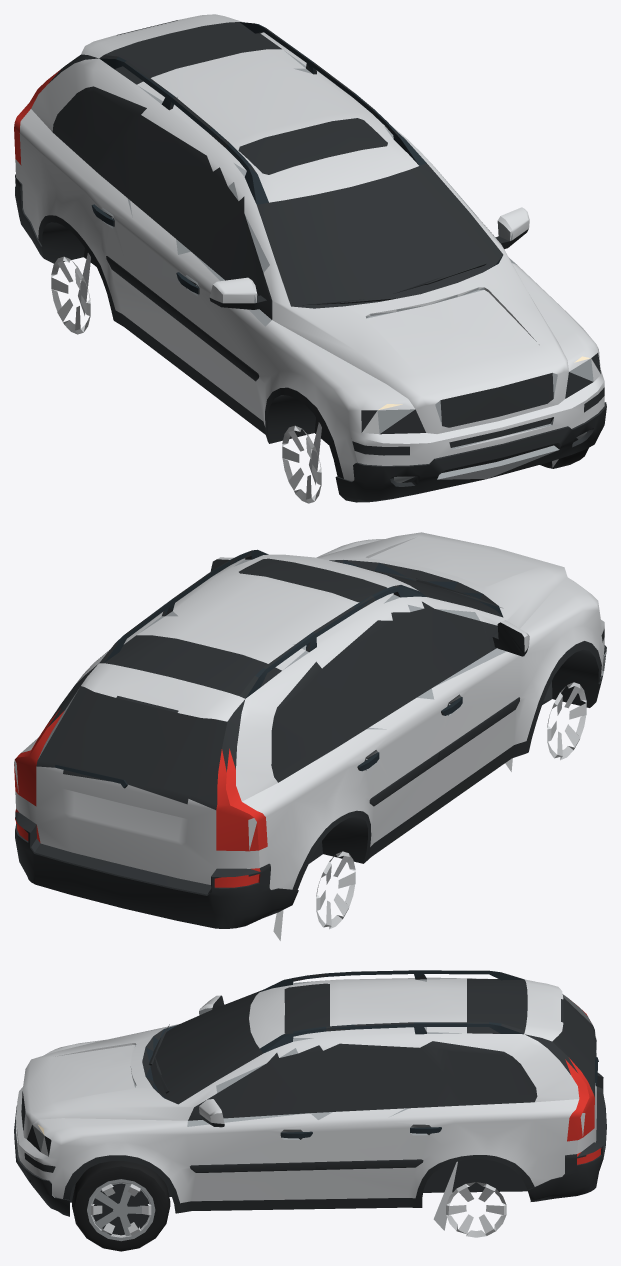
The model's file is suv-classic.glb.
The picture shows the model from 3 angles, top to bottom: view 1: azimuth 30°, elevation 25°; view 2: azimuth 150°, elevation 25°; view 3: azimuth 270°, elevation 25°; orthographic projection. The views are drawn at different scales.
Visible parts, largest first — view 1: Car body, Car trim, Car wheel discs, Car glazing; view 2: Car body, Car trim, Car tail lamps, Car glazing, Car wheel discs; view 3: Car body, Car trim, Wheel tyre, Car glazing, Wheel rim, Car wheel discs, Car tail lamps, Wheel well.
Boxes of the visible parts, x1=… form: Car body: x1=15, y1=14, x2=604, y2=503; Car trim: x1=15, y1=20, x2=606, y2=502; Car wheel discs: x1=101, y1=50, x2=593, y2=482; Car glazing: x1=91, y1=22, x2=502, y2=293; Car body: x1=14, y1=532, x2=604, y2=940; Car trim: x1=15, y1=550, x2=606, y2=928; Car tail lamps: x1=14, y1=708, x2=267, y2=887; Car glazing: x1=55, y1=549, x2=502, y2=788; Car wheel discs: x1=38, y1=559, x2=605, y2=770; Car body: x1=16, y1=977, x2=596, y2=1237; Car trim: x1=14, y1=970, x2=606, y2=1216; Wheel tyre: x1=72, y1=1161, x2=170, y2=1251; Car glazing: x1=145, y1=970, x2=598, y2=1138; Wheel rim: x1=87, y1=1179, x2=155, y2=1241; Car wheel discs: x1=23, y1=978, x2=592, y2=1197; Car tail lamps: x1=565, y1=1003, x2=601, y2=1164; Wheel well: x1=93, y1=1179, x2=150, y2=1235.
Size of the model in its own units: 2.26 by 1.86 by 4.8.
